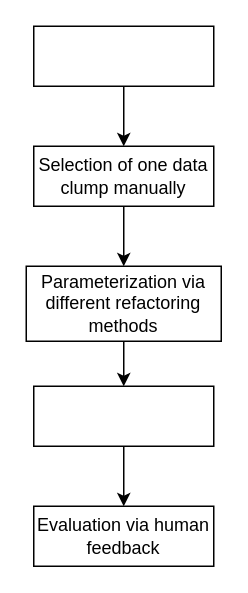
This 248x593 diagram has some shape labels left out. Here are the shapes that lost their labels. From the top down, the centre of each, then its label:
At pixel 123 55: "Selection of a multitude of projects".
At pixel 123 415: "Executing the complete pipeline".
